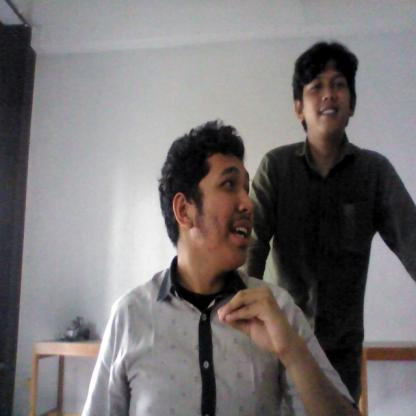Malam: (210, 277, 304, 365)
